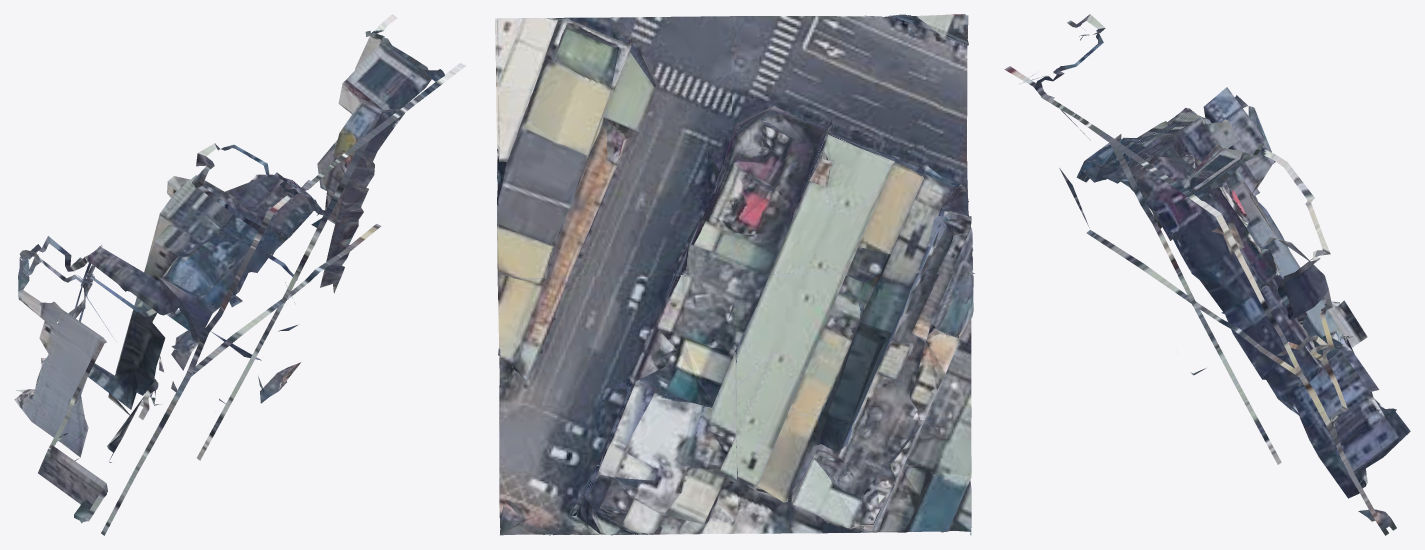
Rendered from UlRPVEYubm9kZWRhdGEucGxhbmV0b2lkPWVhcnRoLG5vZGVfZGF0YV9lcG9jaD05MTYscGF0aD0zMTQzNDE1MjYwNzM2MjcxNzY3LGNhY2hlX3ZlcnNpb249Ng.glb.
3 renders of one model, left to right at view 1: azimuth 30°, elevation 25°; view 2: azimuth 150°, elevation 25°; view 3: azimuth 270°, elevation 25°, orthographic. The views are drawn at different scales.
Bounding box in the file's own units: 85.33 × 76 × 69.33.
Materials: 1 (1 with a texture image).
